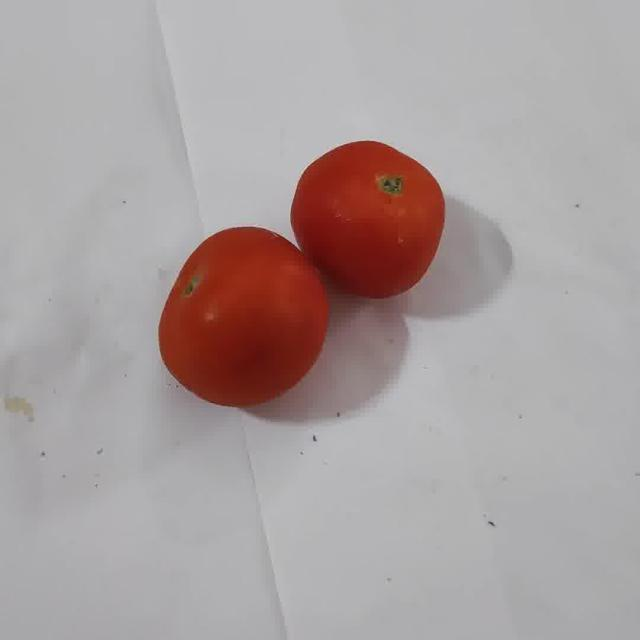Tomato: (158, 228, 328, 407), (291, 140, 444, 298)
